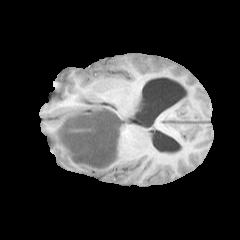glioma: (52, 102, 128, 173)
